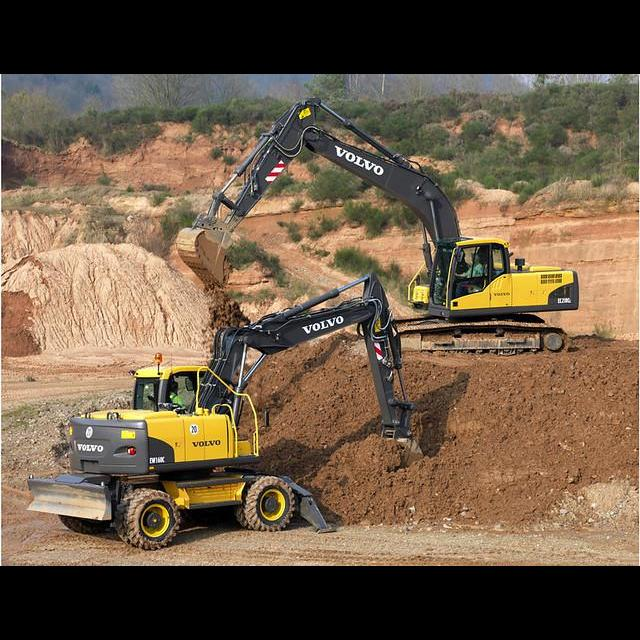Excavator: (29, 274, 422, 550), (175, 100, 582, 363)
NO-Hardhat: (171, 382, 180, 389), (471, 253, 480, 260)
Person: (455, 253, 484, 297), (167, 383, 187, 409)
Safety Vest: (168, 394, 184, 409), (467, 264, 483, 278)
